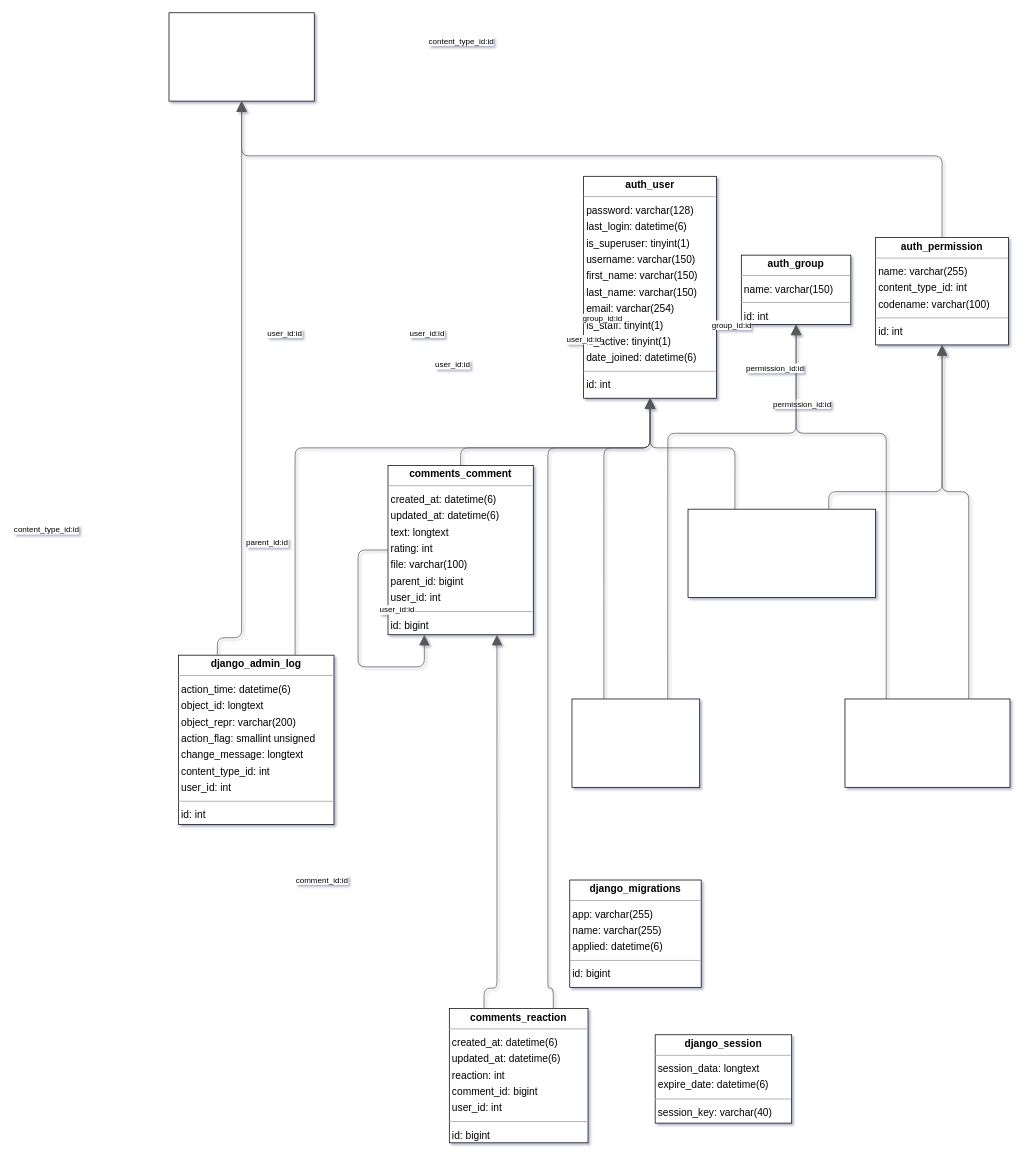
This 1027x1160 diagram has some shape labels left out. Each missing label, with the centre of its shape:
"auth_group_permissions group_id: int permission_id: int id: bigint" belongs at pixel 927 742.
"auth_user_groups user_id: int group_id: int id: bigint" belongs at pixel 635 742.
"auth_user_user_permissions user_id: int permission_id: int id: bigint" belongs at pixel 781 553.
"django_content_type app_label: varchar(100) model: varchar(100) id: int" belongs at pixel 241 56.
